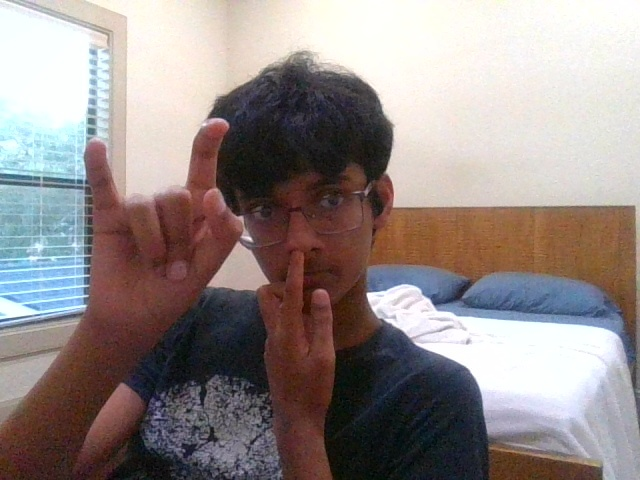ly: (84, 118, 244, 328)
